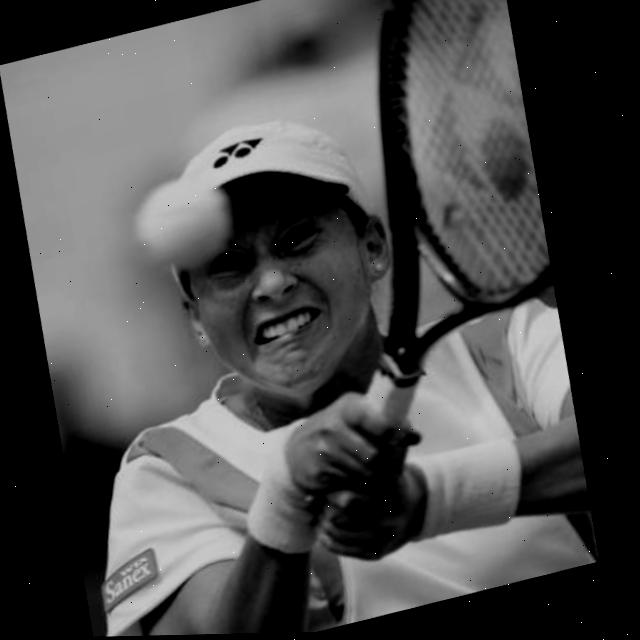face: (136, 87, 426, 435)
